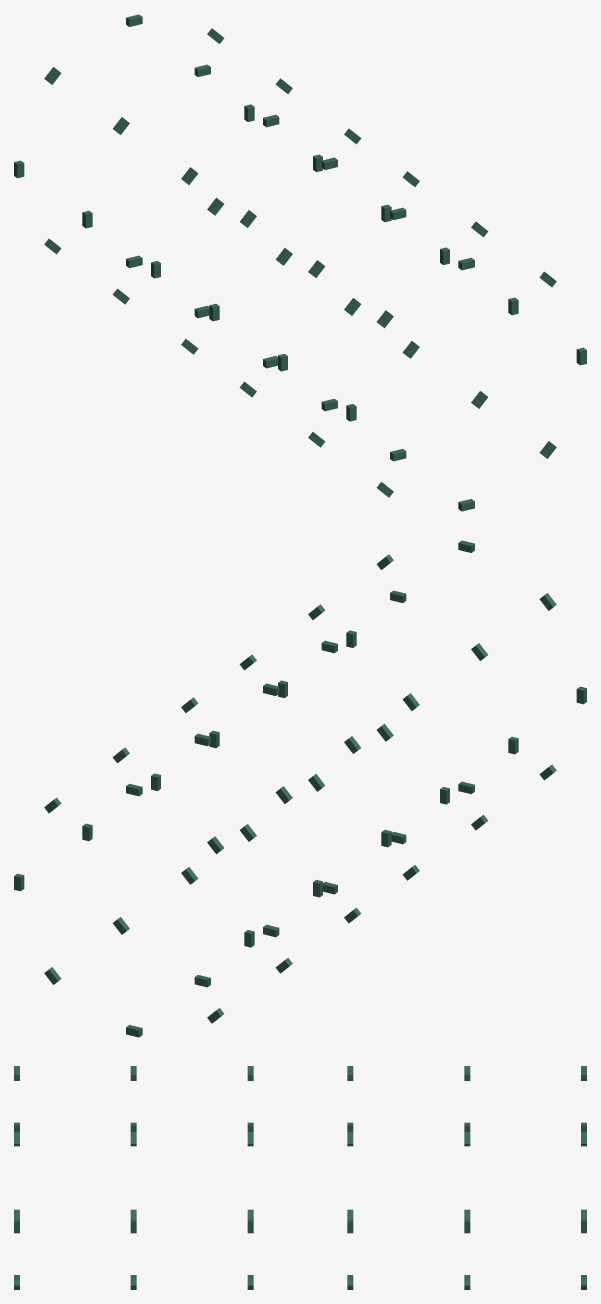
The model's file is tank4200_locks.obj.
The picture shows the model from 3 angles, top to bottom: view 1: azimuth 30°, elevation 25°; view 2: azimuth 150°, elevation 25°; view 3: azimuth 270°, elevation 25°; orthographic projection. The views are drawn at different scales.
Parts seen in each view (by area): view 1: tank4200_locks; view 2: tank4200_locks; view 3: tank4200_locks.
Part boxes in pixels (bbox=[...]): tank4200_locks: bbox=[14, 14, 586, 511]; tank4200_locks: bbox=[14, 540, 586, 1037]; tank4200_locks: bbox=[14, 1066, 586, 1289].
Size of the model in its own units: 12.7 by 12.7 by 31.15.
